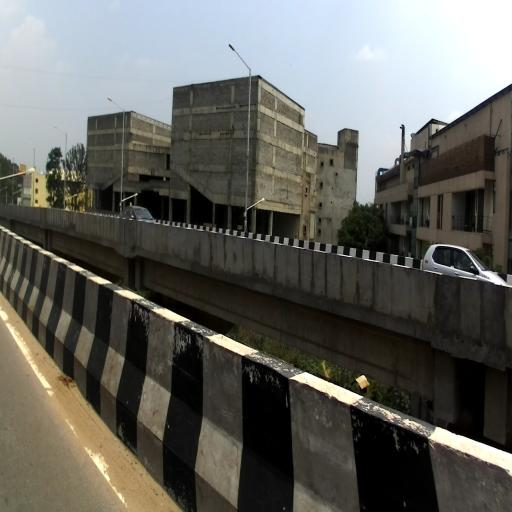street_light_0: (228, 41, 251, 72), (0, 168, 36, 181), (244, 196, 265, 213), (107, 98, 125, 112), (120, 191, 138, 202), (54, 124, 67, 136), (64, 193, 78, 203), (12, 188, 21, 197), (0, 186, 8, 192)
